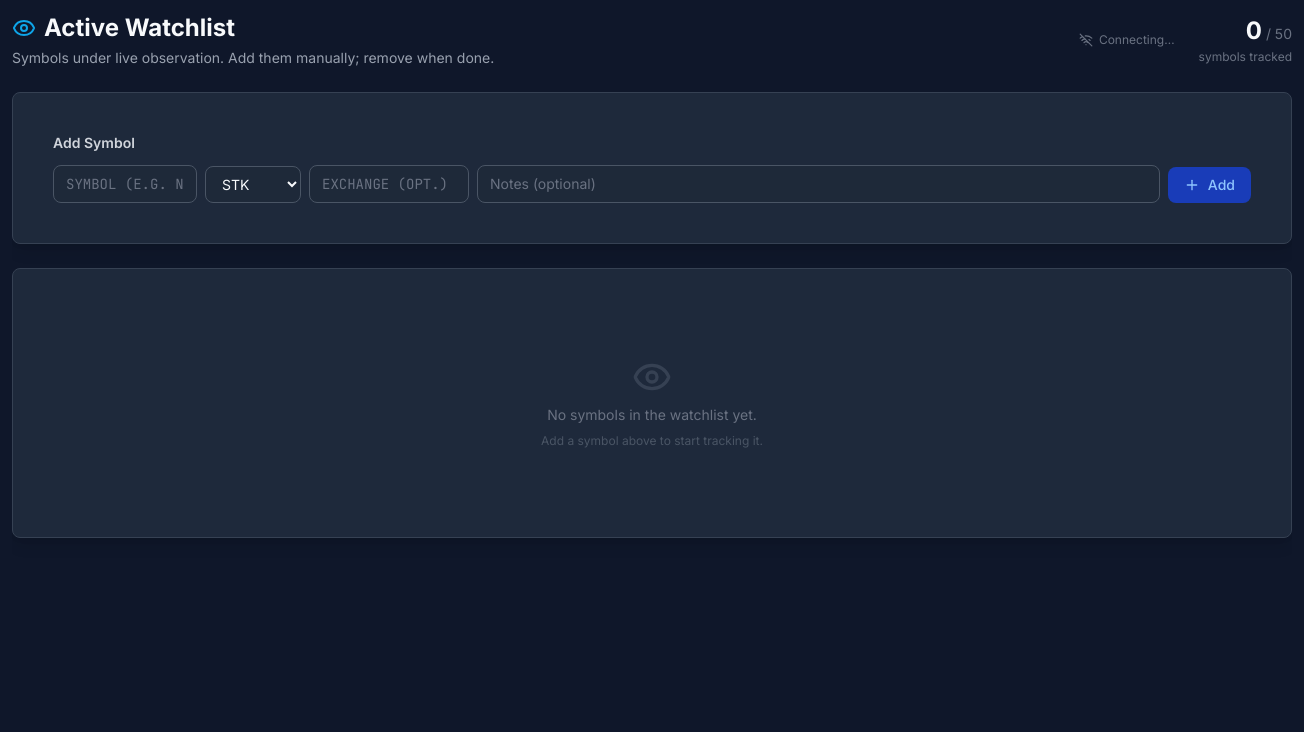
Scenario: ActiveWatchlist › auto-sets exchange to CME when FUT is selected
Select "FUT" in the dropdown at (253, 184), box [205, 166, 301, 203]
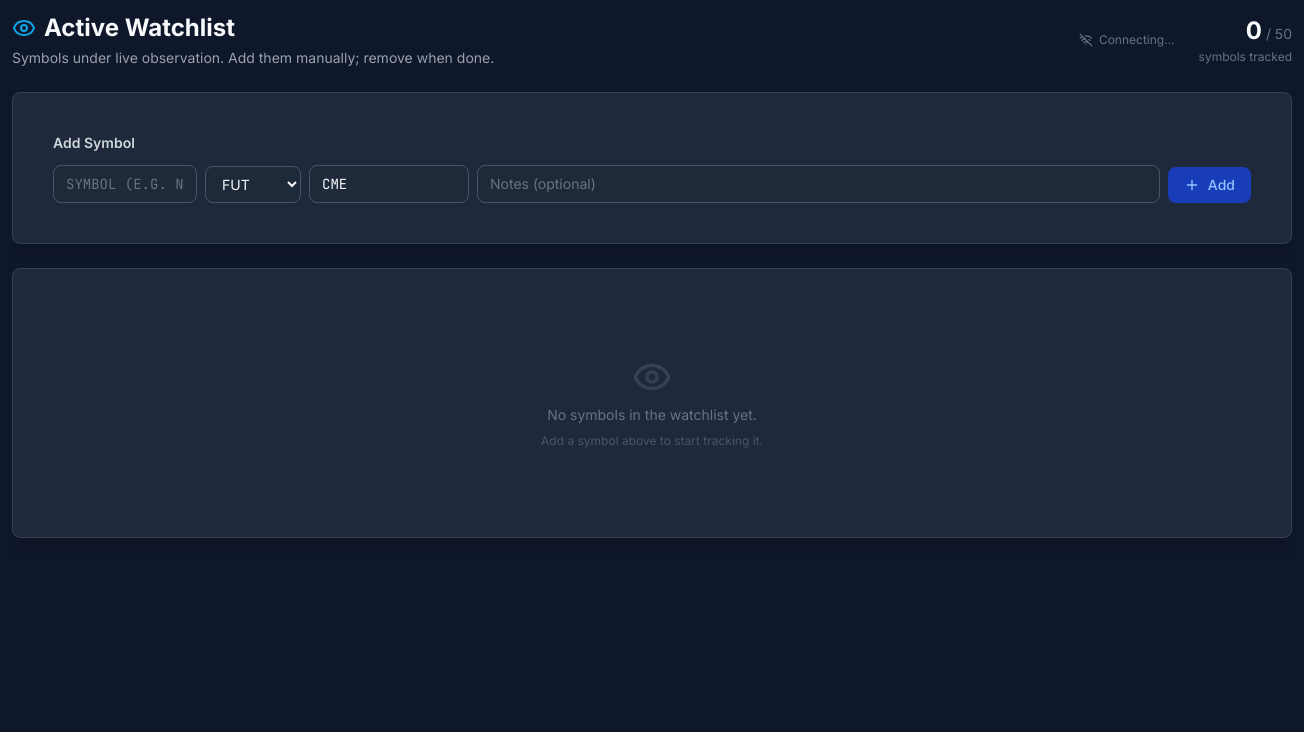
Check: the field with placeholder "Exchange (e.g. CME)" holds "CME", box [309, 165, 469, 203]
